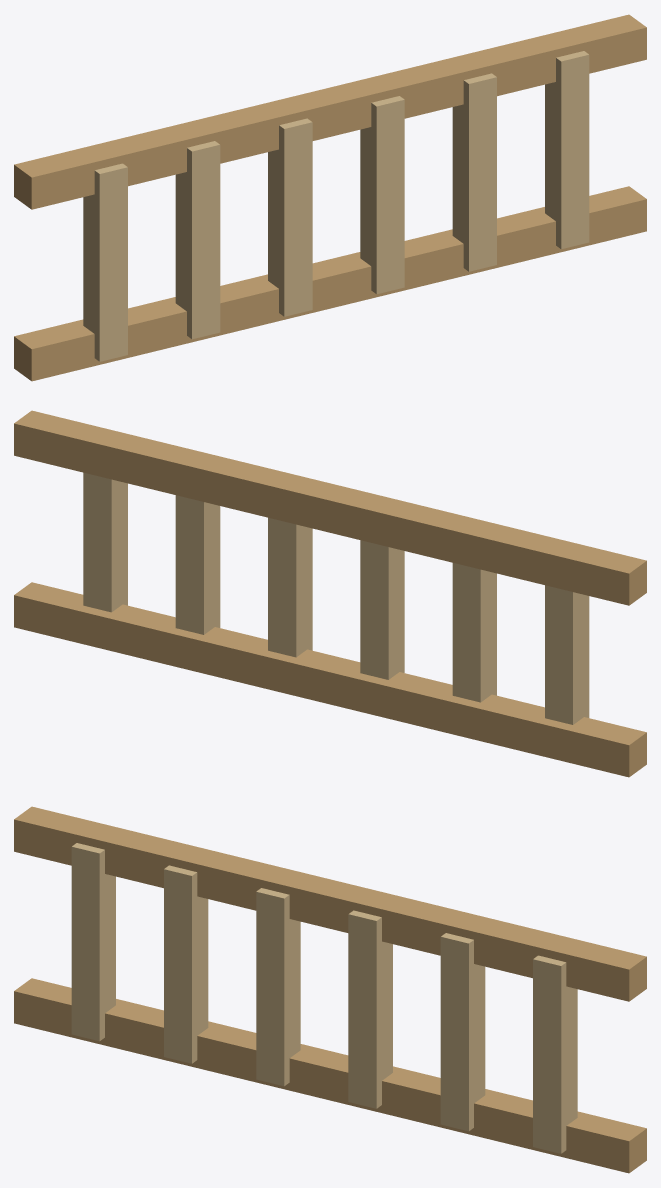
Rendered from ladder.glb.
3 renders of one model, top to bottom at view 1: azimuth 30°, elevation 25°; view 2: azimuth 150°, elevation 25°; view 3: azimuth 330°, elevation 25°, orthographic.
Visible parts, largest first — view 1: railR, railL, rung1, rung2, rung5, rung3, rung0, rung4; view 2: railR, railL, rung4, rung1, rung5, rung2, rung3, rung0; view 3: railR, railL, rung4, rung3, rung0, rung2, rung1, rung5.
Part boxes in pixels (<box>): railR: <box>14,14,646,209</box>; railL: <box>14,186,646,381</box>; rung1: <box>175,141,220,339</box>; rung2: <box>268,118,312,316</box>; rung5: <box>545,51,589,249</box>; rung3: <box>360,96,404,294</box>; rung0: <box>83,163,127,361</box>; rung4: <box>452,73,496,271</box>; railR: <box>14,410,646,605</box>; railL: <box>14,582,646,777</box>; rung4: <box>175,495,220,634</box>; rung1: <box>452,563,496,702</box>; rung5: <box>83,472,127,612</box>; rung2: <box>360,540,404,679</box>; rung3: <box>268,517,312,657</box>; rung0: <box>545,585,589,724</box>; railR: <box>14,806,646,1001</box>; railL: <box>14,978,646,1173</box>; rung4: <box>440,933,485,1131</box>; rung3: <box>348,910,392,1108</box>; rung0: <box>71,843,115,1041</box>; rung2: <box>256,888,300,1086</box>; rung1: <box>164,865,208,1063</box>; rung5: <box>533,955,577,1153</box>.
Bounding box in the file's own units: 2.4 × 0.76 × 0.155.
